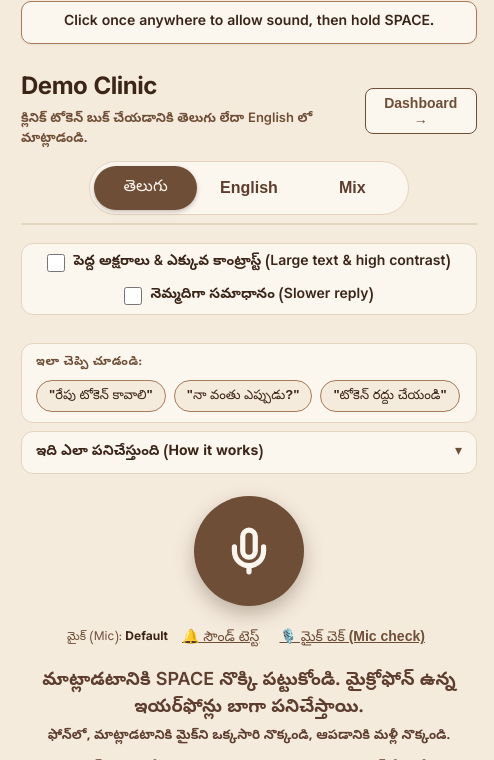
Scenario: Patient App Component Tests (Vitest + RTL) › 5. Typed input path submits text and updates reply text without speaking
Note: Switch to English
Click the button "English" at (249, 188), box [197,166,301,210]
(page scrolled)
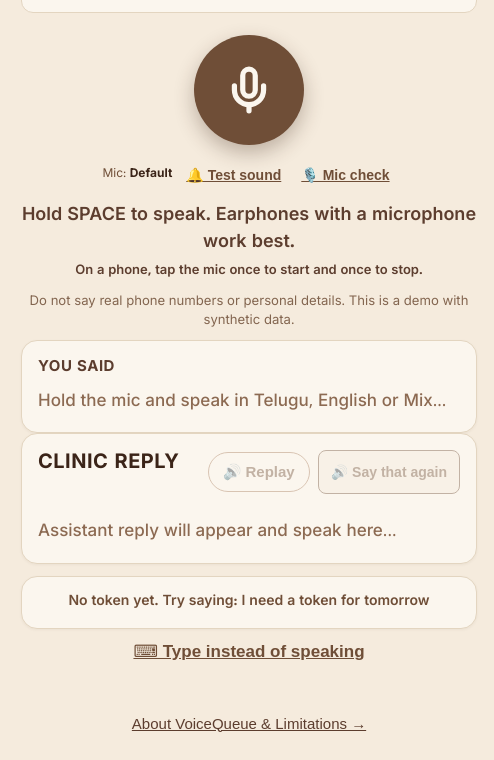
Click the button "⌨ Type instead of speaking" at (249, 651), box [125,629,372,673]
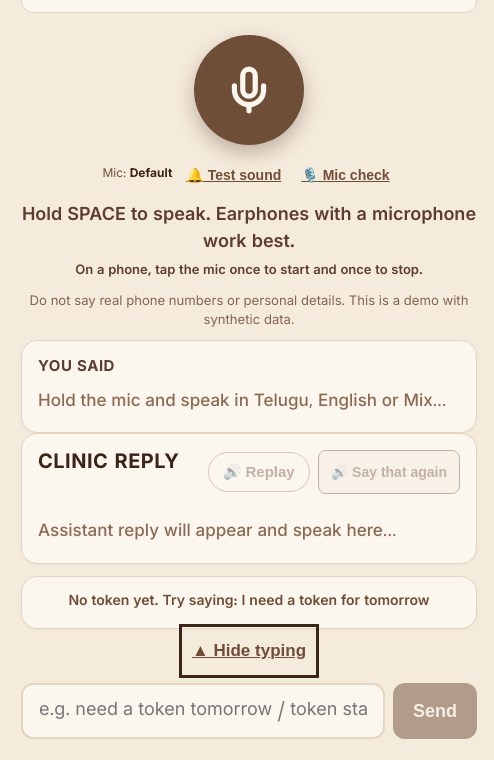
Type "repu token kavali" into the field with placeholder "e.g. need a token tomorrow / token status" at (203, 711), box [21,683,385,739]
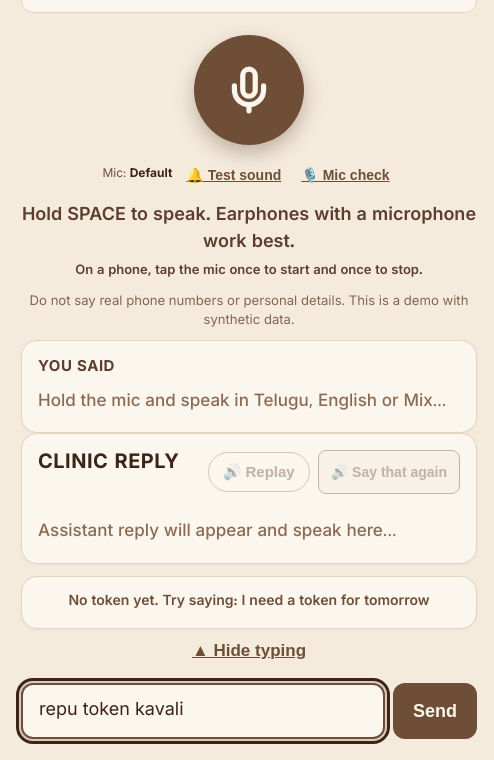
Click the button "Send" at (435, 711), box [393,683,477,739]
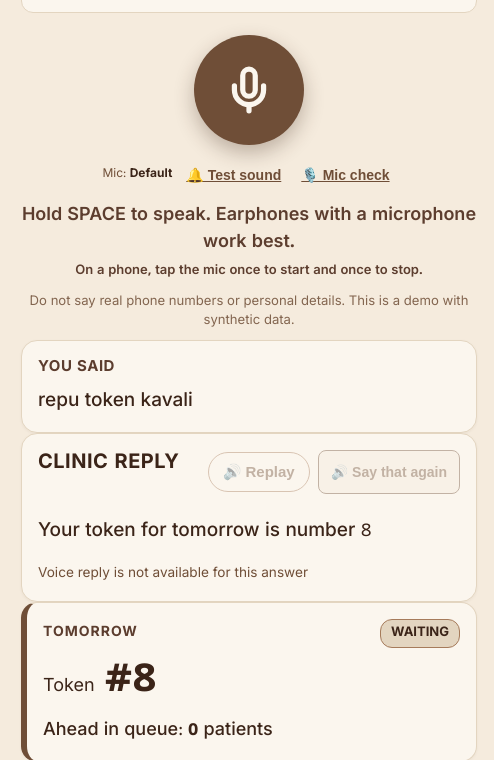
Result: the text "Your token for tomorrow is number 8" is shown at [38,519,372,545]
